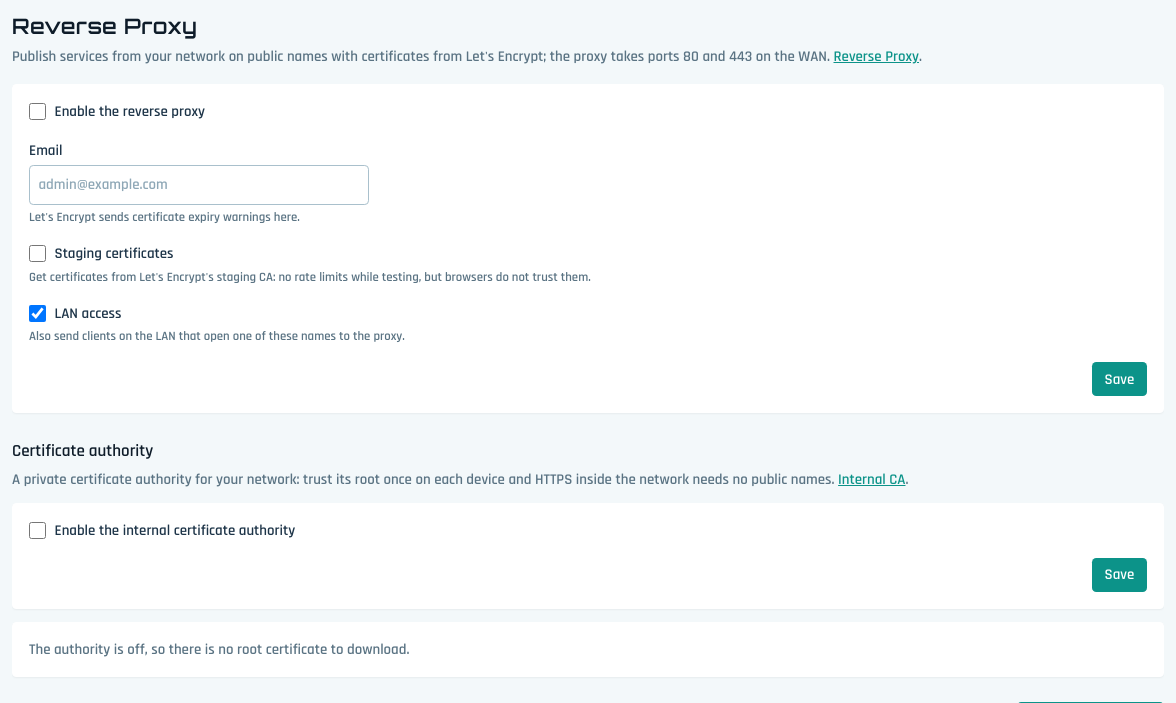
Test: ReverseProxy settings › rejects a malformed email before saving
Type "nope" into the field labelled "Email". click: (199, 185)
box: x1=29 y1=165 x2=369 y2=205
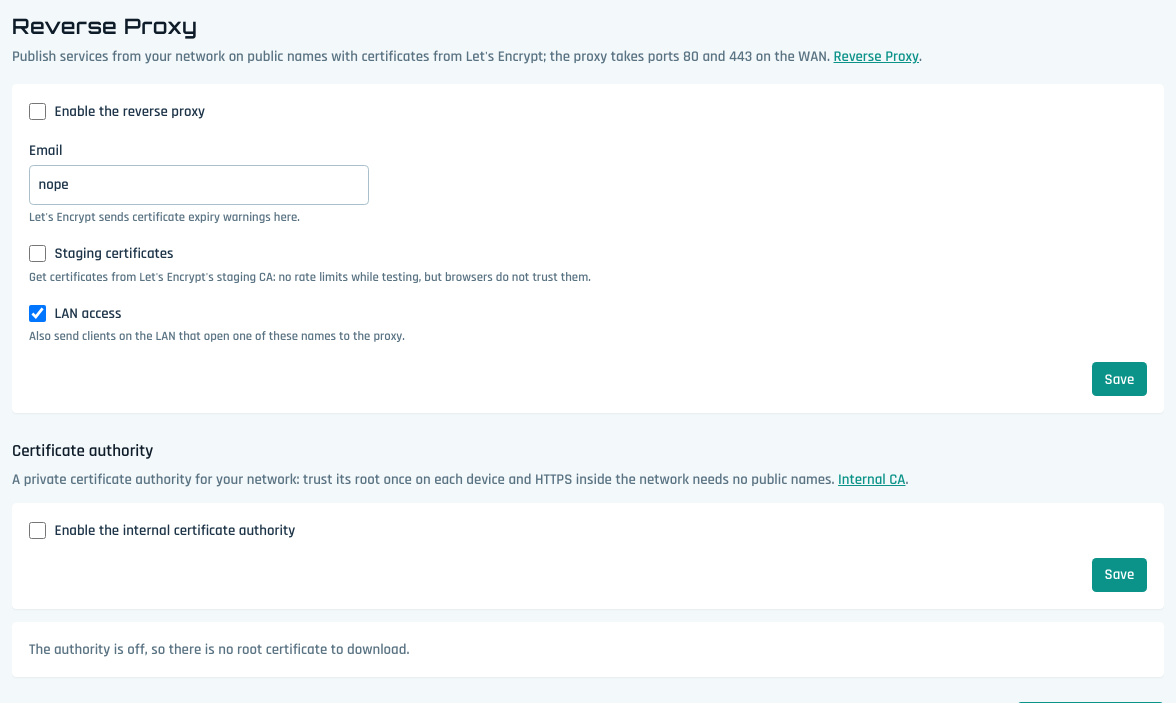
Click the 1st button "Save". click: click(1119, 379)
box: x1=1092 y1=362 x2=1147 y2=396
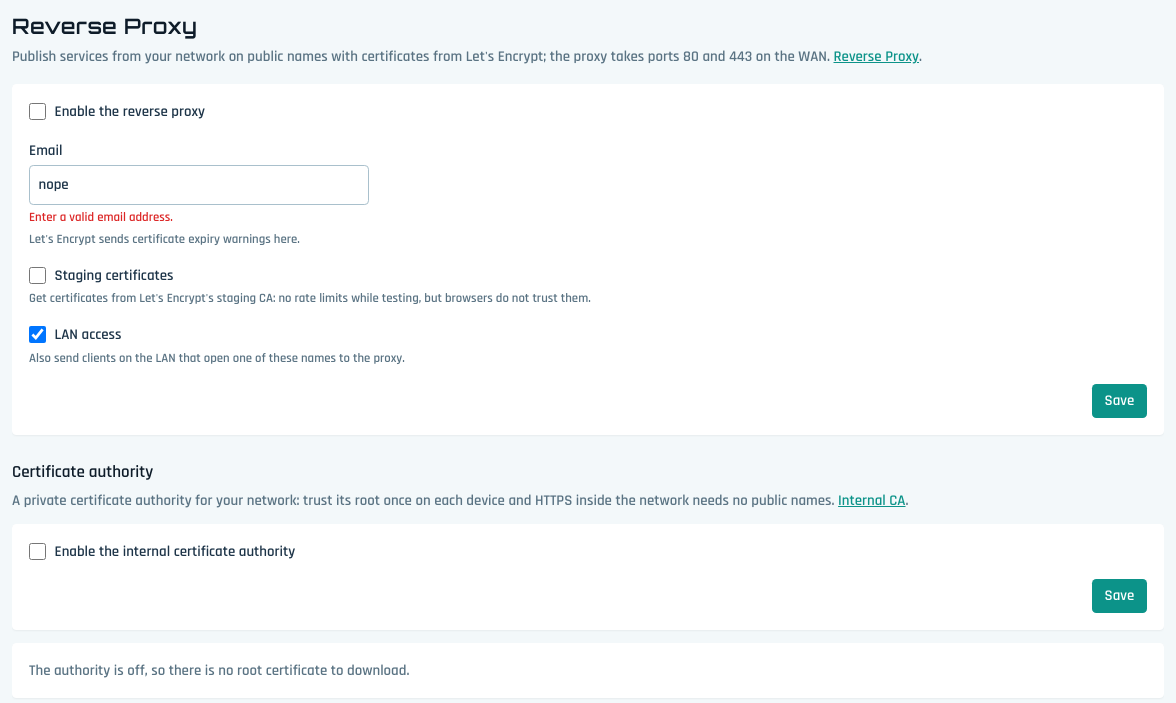
Check: the message shows "valid email", box x1=29 y1=209 x2=173 y2=225
